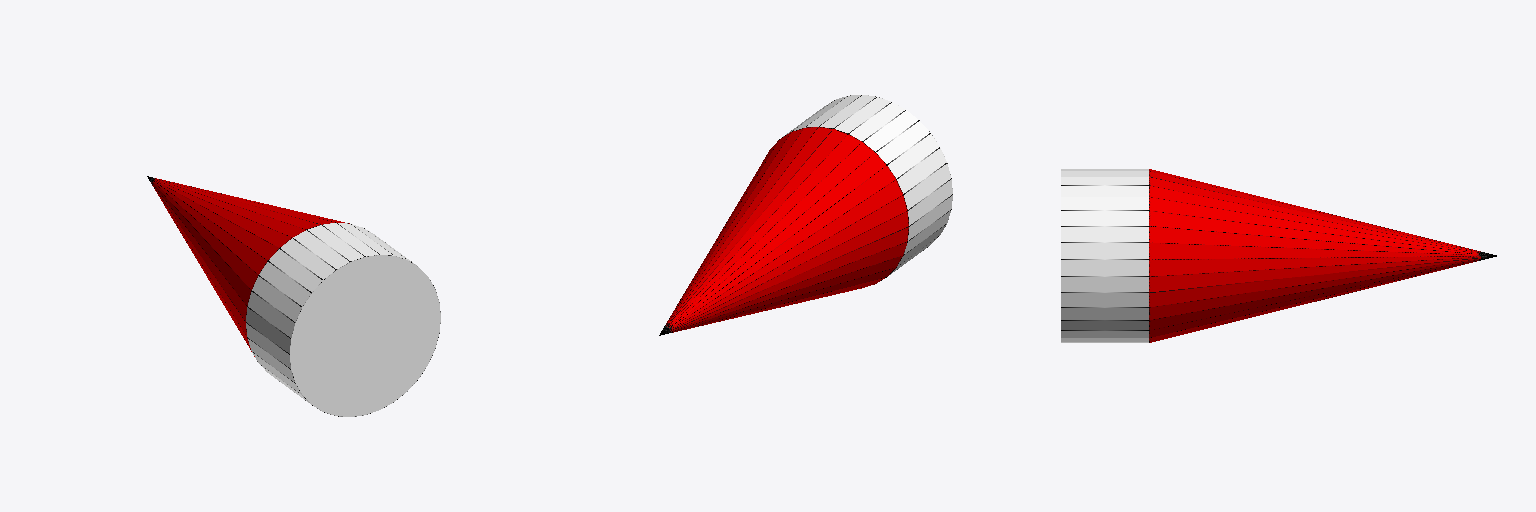
3 views of the same model, side by side, from view 1: azimuth 30°, elevation 25°; view 2: azimuth 150°, elevation 25°; view 3: azimuth 270°, elevation 25° (orthographic).
Visible parts, largest first — view 1: 円柱_円柱.001; view 2: 円柱_円柱.001; view 3: 円柱_円柱.001.
Boxes of the visible parts, <box> form: 円柱_円柱.001: <box>147,176,440,416</box>; 円柱_円柱.001: <box>659,95,952,335</box>; 円柱_円柱.001: <box>1061,169,1496,342</box>.
Size of the model in its own units: 2 by 2 by 5.
1 materials, 1 textured.